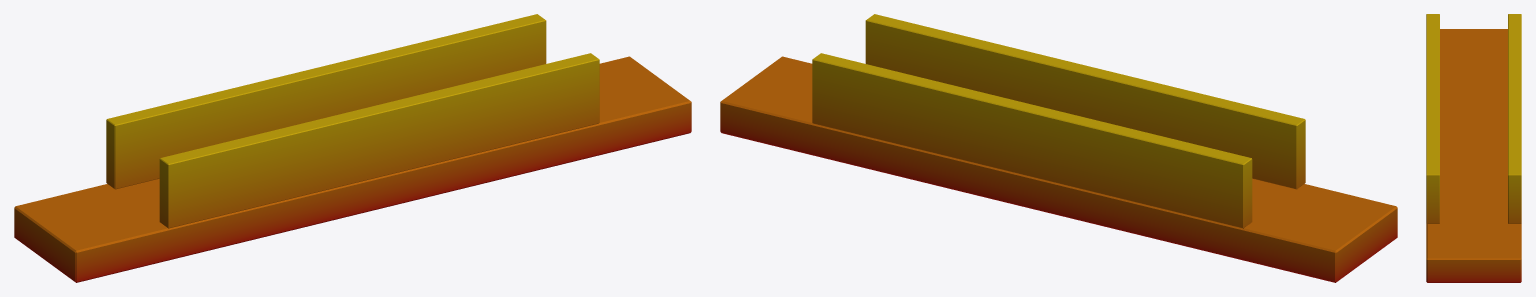
File: aqueduct_channel_broken.glb
The picture shows the model from 3 angles, left to right: view 1: azimuth 30°, elevation 25°; view 2: azimuth 150°, elevation 25°; view 3: azimuth 270°, elevation 25°; orthographic projection. The views are drawn at different scales.
Parts seen in each view (by area): view 1: aqueduct_channel_broken; view 2: aqueduct_channel_broken; view 3: aqueduct_channel_broken.
Boxes of the visible parts, x1,y1,x2,y2 form: aqueduct_channel_broken: [14, 14, 691, 282]; aqueduct_channel_broken: [720, 14, 1397, 282]; aqueduct_channel_broken: [1426, 14, 1521, 282].
Size of what is drawn, in the model's own units: 8 by 1.2 by 1.4.
